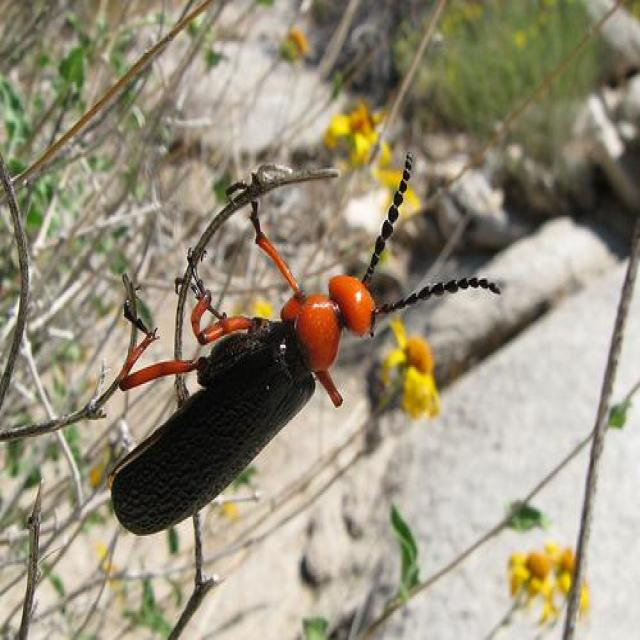BlisterBeetle-Adult-: (109, 152, 502, 540)
